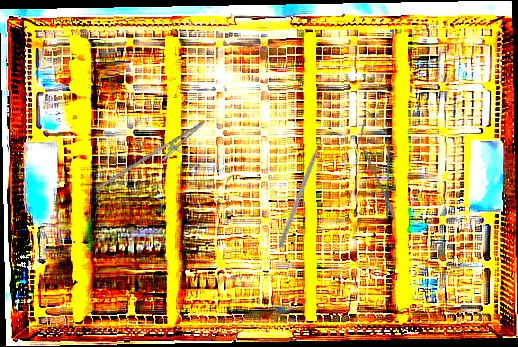Chopper: (277, 133, 332, 250)
Micro Scissor: (354, 108, 406, 224)
Needle Holder: (98, 108, 212, 208)
